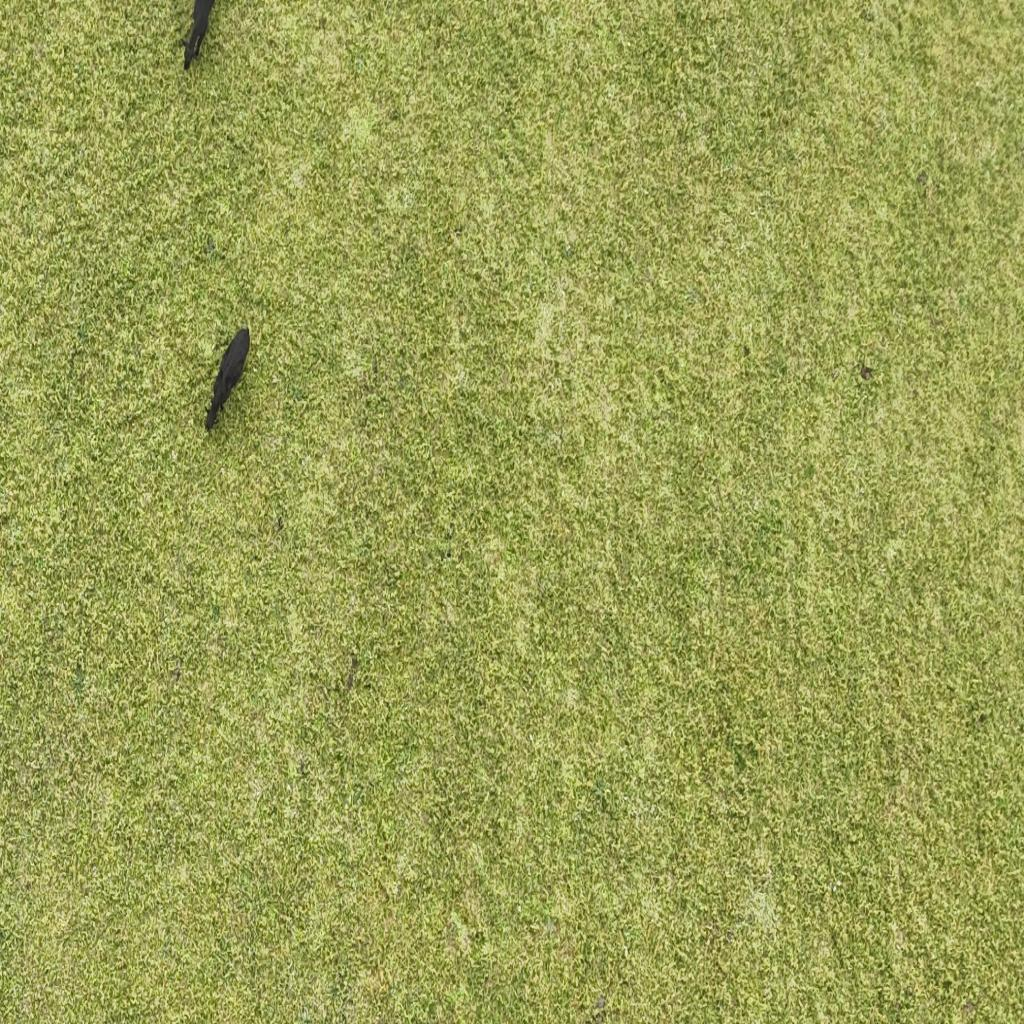cow: (205, 322, 254, 436), (179, 0, 217, 73)
